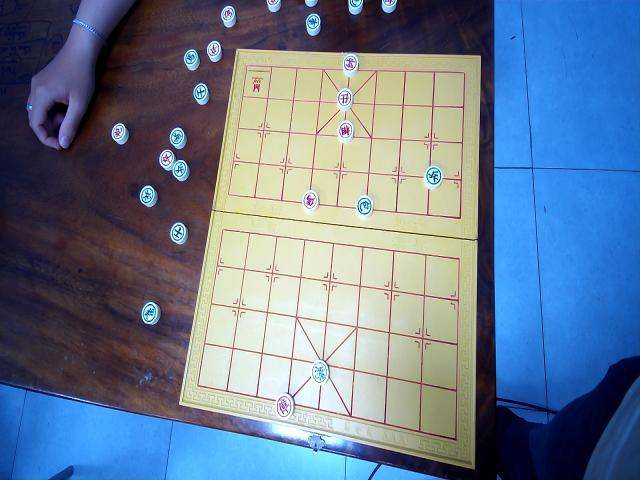piece: (274, 392, 294, 419), (423, 164, 443, 189), (140, 300, 160, 325), (170, 221, 188, 245), (311, 359, 328, 384), (111, 122, 128, 145), (302, 188, 319, 211), (305, 12, 321, 36), (336, 87, 352, 110), (342, 53, 358, 76), (140, 184, 156, 207), (356, 194, 372, 217), (337, 120, 353, 142), (220, 6, 236, 28), (172, 159, 188, 181), (183, 48, 199, 70), (169, 126, 185, 148), (159, 148, 175, 169), (206, 40, 222, 61), (192, 82, 208, 103), (348, 0, 364, 15), (381, 0, 397, 12), (266, 0, 280, 12), (303, 0, 318, 7)
